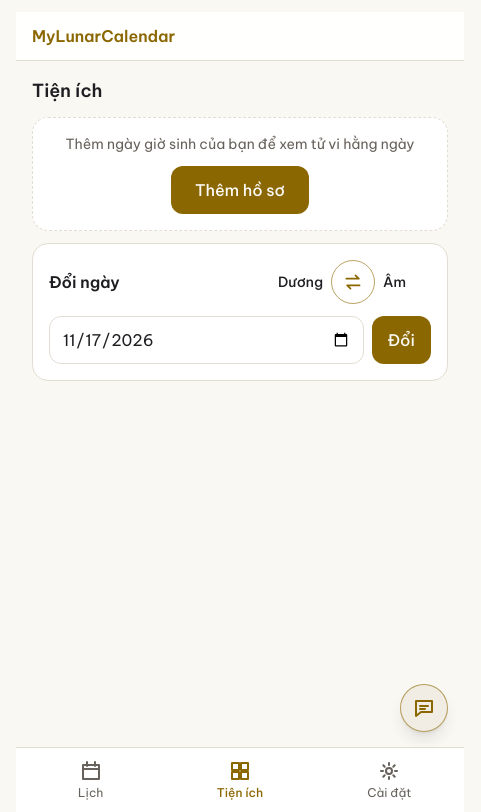
hồ sơ lưu trên máy, mỗi máy một hồ sơ (HORO-UC01/BR-1) › chưa có hồ sơ: mời thêm; lỗi dưới từng ô; lưu xong Tiện ích hiện thẻ hồ sơ
Click the link "Thêm hồ sơ" at (240, 190), box [171, 166, 309, 214]
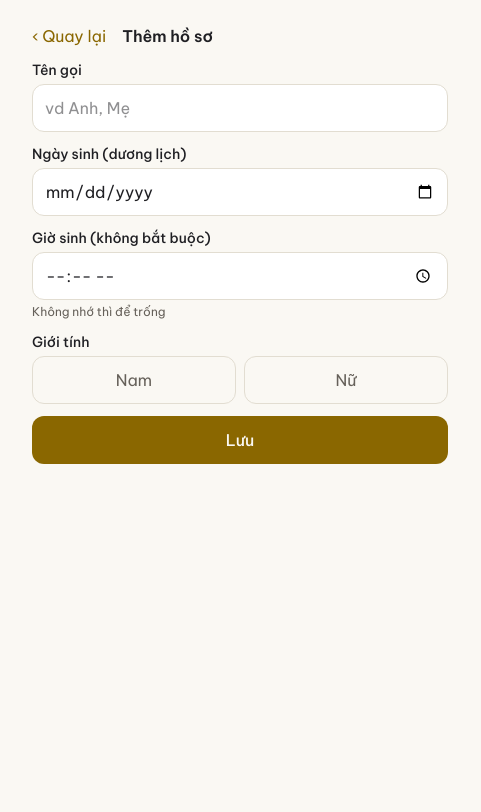
Click the button "Lưu" at (240, 440), box [32, 416, 448, 464]
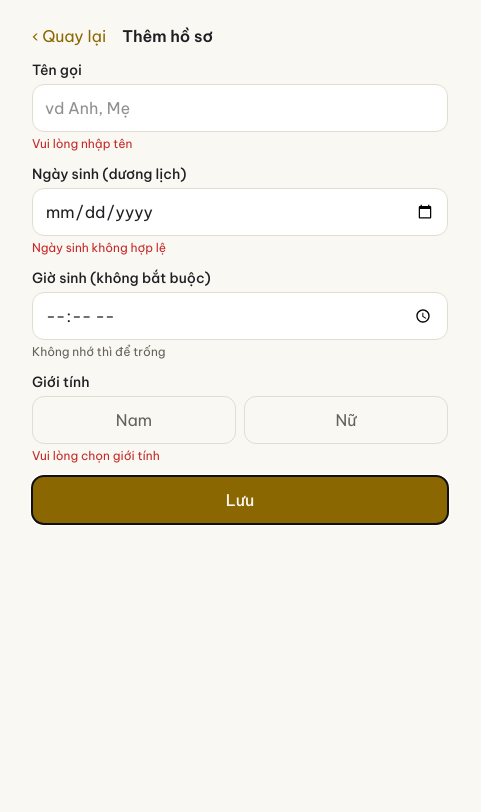
expect the text "Vui lòng nhập tên" is shown: met, box [32, 136, 132, 151]
expect the text "Vui lòng chọn giới tính" is shown: met, box [32, 448, 160, 463]
Type "Anh" into the field labelled "Tên gọi Vui lòng nhập tên" at (240, 108), box [32, 84, 448, 132]
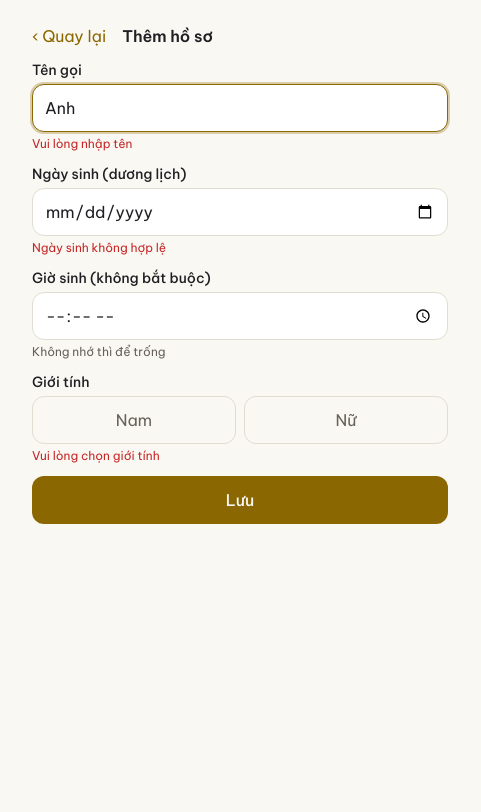
Type "1990-03-01" into the date field labelled "Ngày sinh (dương lịch) Ngày sinh không hợp lệ" at (240, 212), box [32, 188, 448, 236]
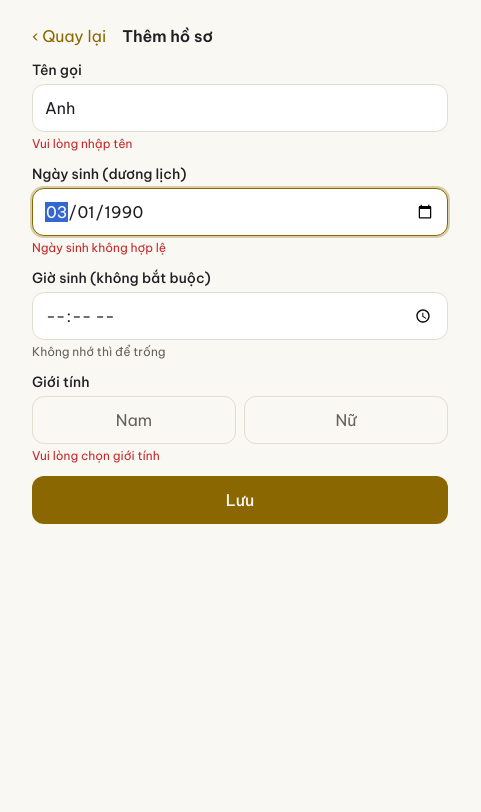
Click the radio button labelled "Nam" at (134, 420), box [32, 396, 236, 444]
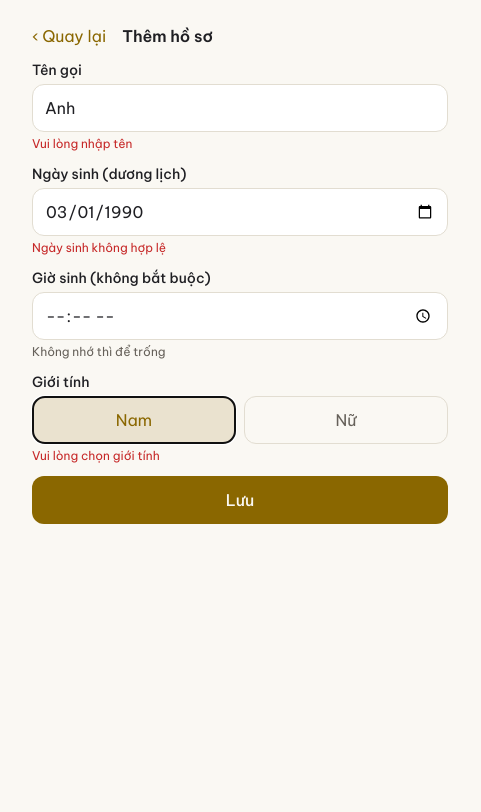
Click the button "Lưu" at (240, 500), box [32, 476, 448, 524]
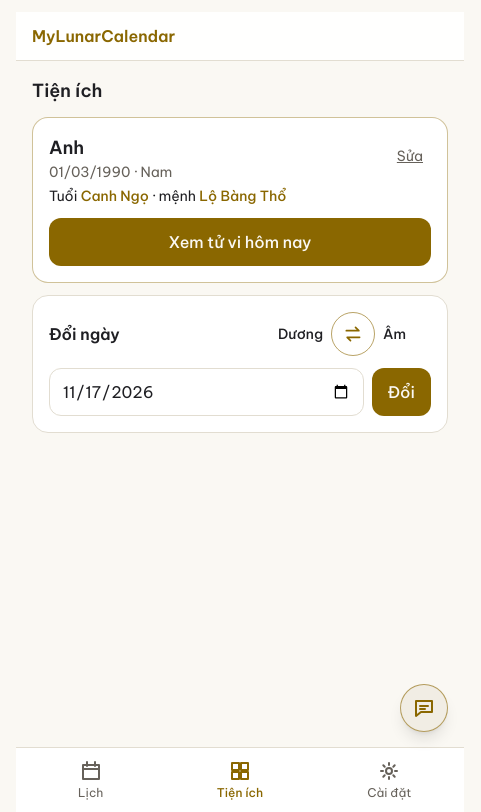
expect the text "Anh" is shown: met, box [49, 136, 84, 159]
expect the text "Canh Ngọ" is shown: met, box [81, 187, 149, 205]
expect the link "Xem tử vi hôm nay" is shown: met, box [49, 218, 431, 266]
